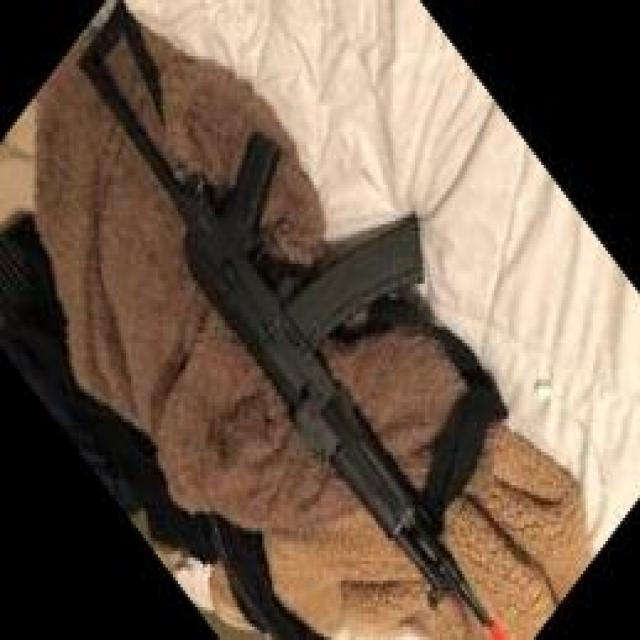weapon: (73, 1, 510, 640)
